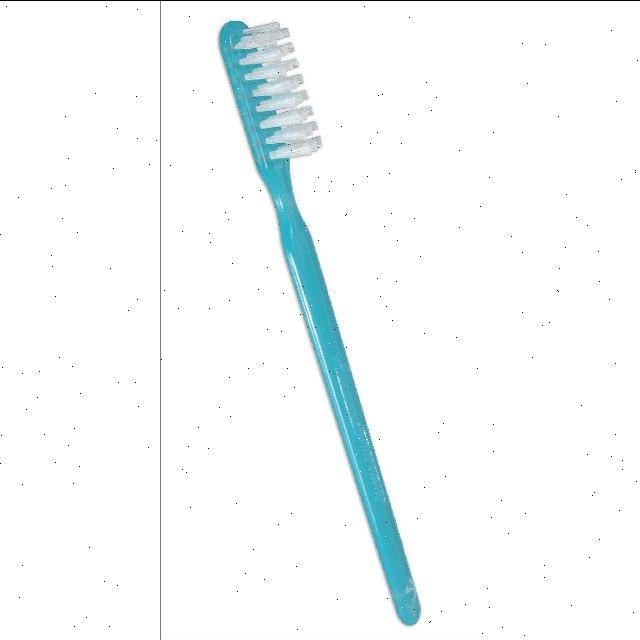toothbrush: (176, 12, 454, 640)
